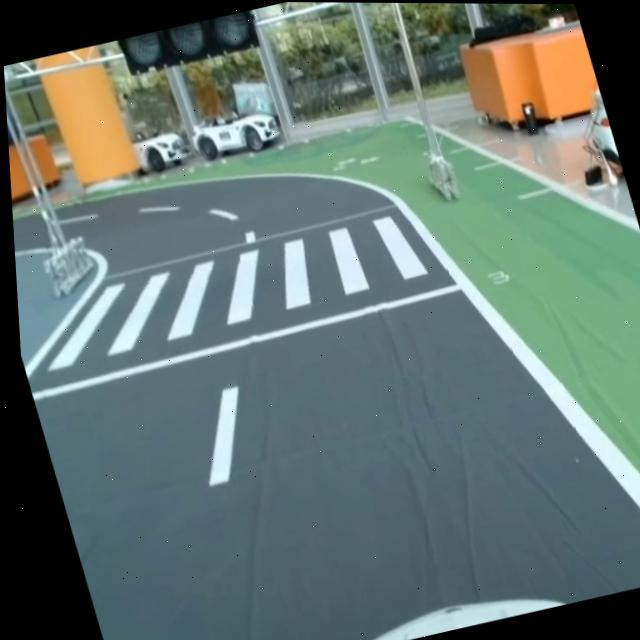traffic-light: (108, 7, 269, 80)
